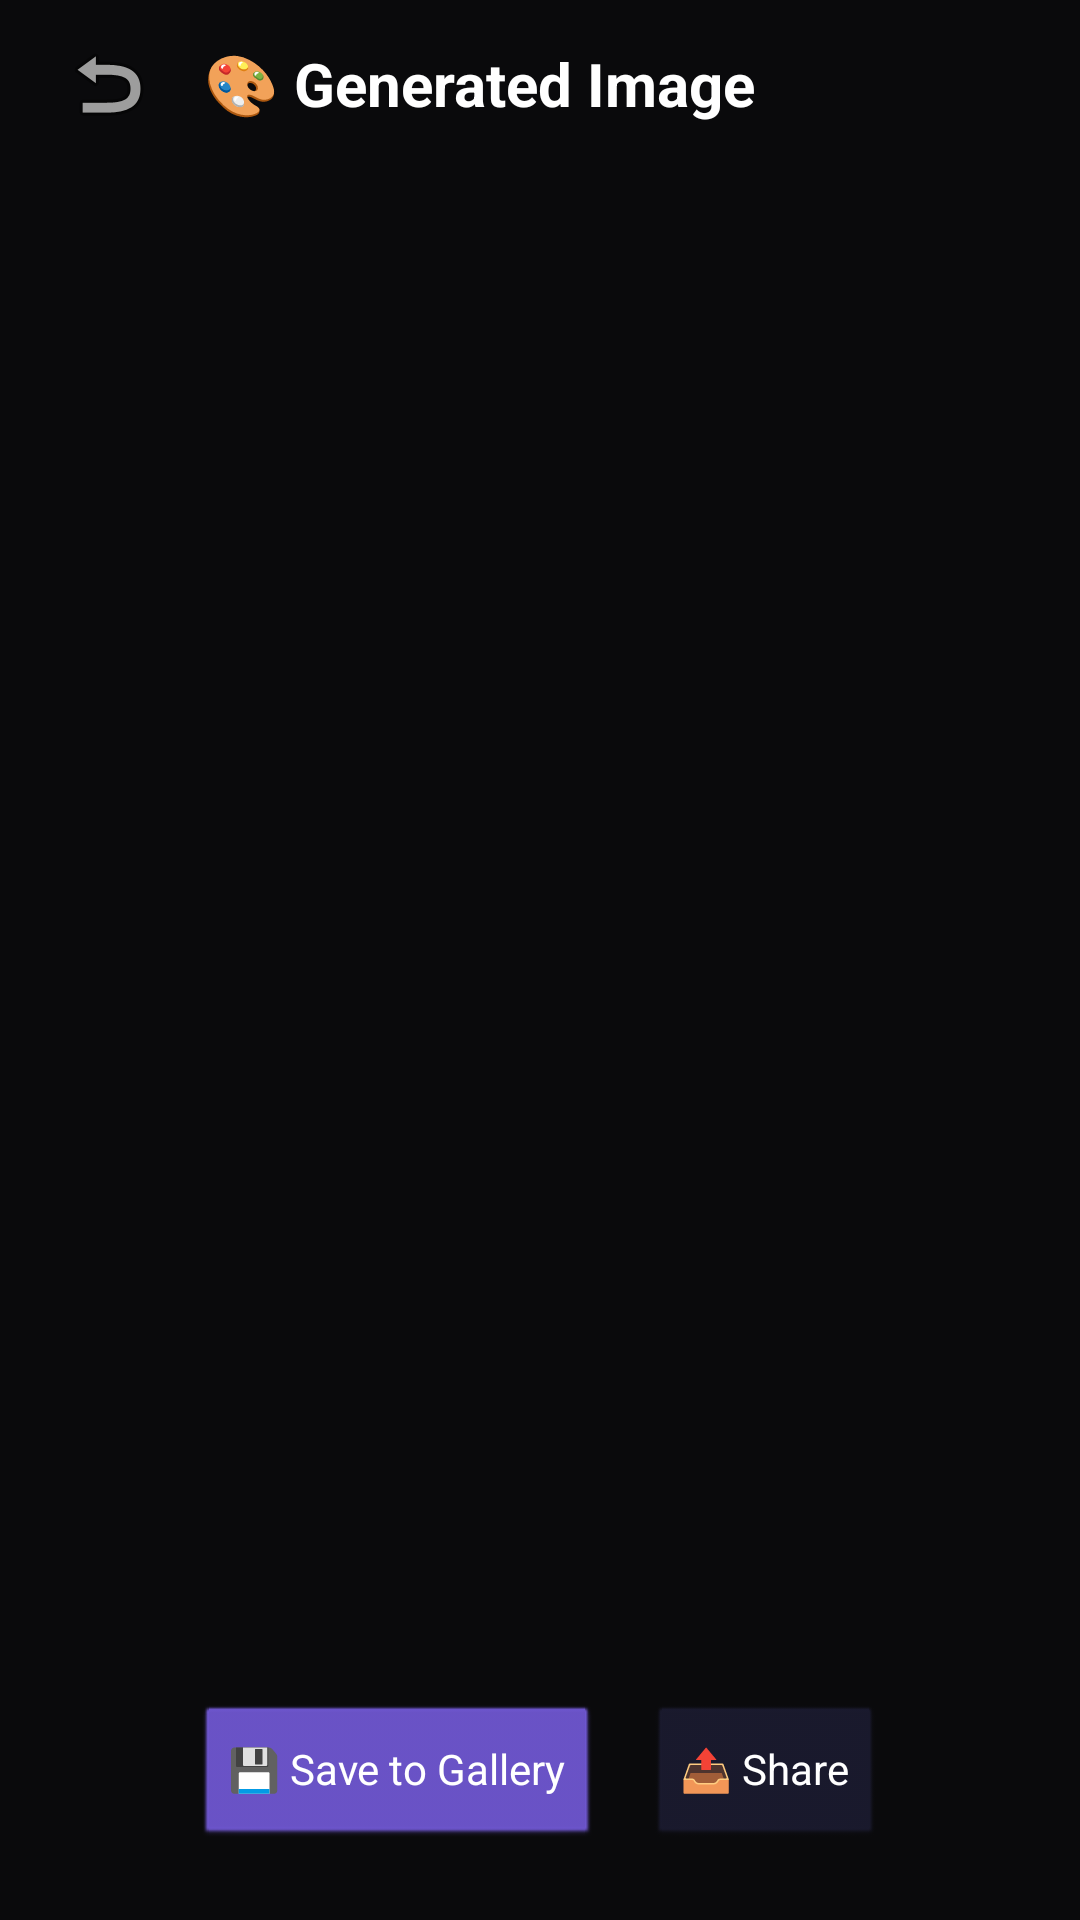

Screen size 1080px×1920px. Icon name, then its center in pixels as point (x, y):
revert: point (109, 84)
